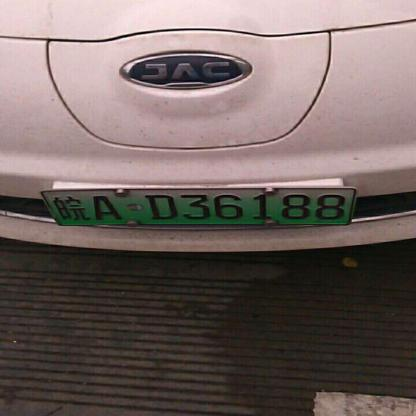lp: (42, 189, 60, 226)
